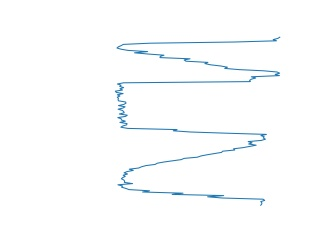distributaryChannelFill: (112, 72, 271, 143)
mouthBar: (114, 35, 284, 77)
underwaterDistributaryChannel: (115, 137, 268, 207)
